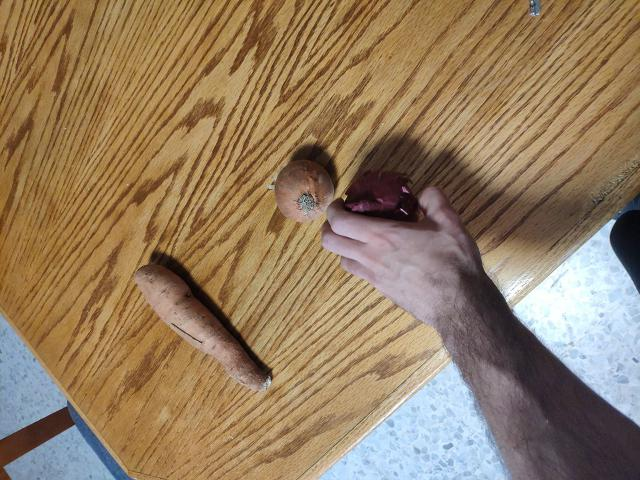onion: (344, 172, 420, 242)
